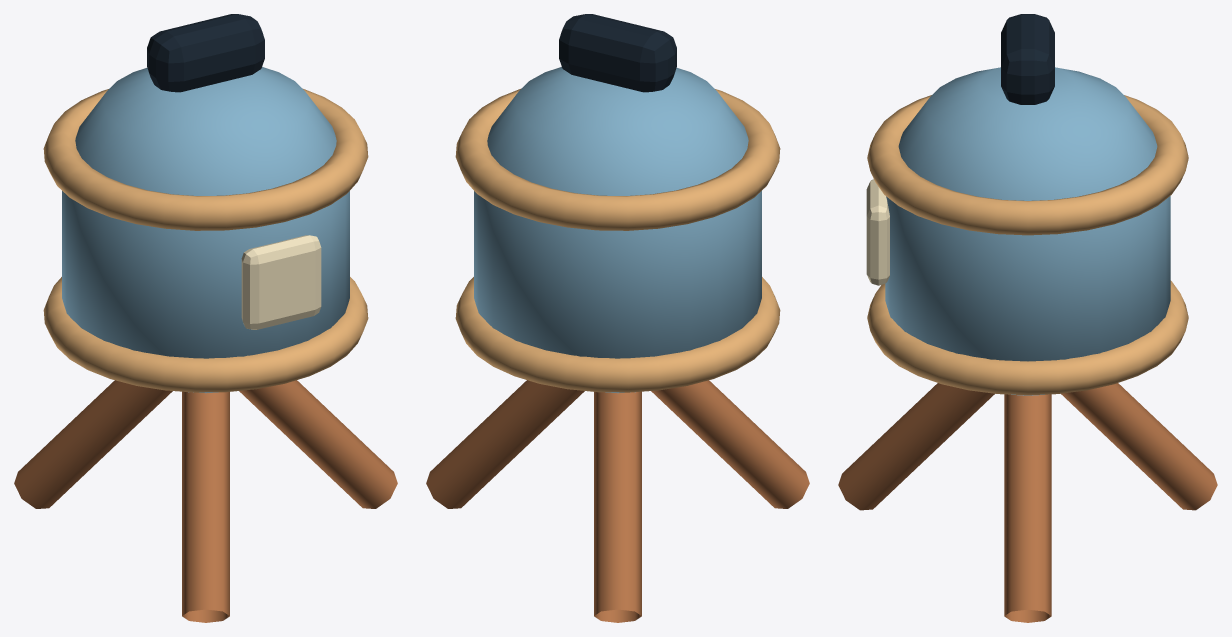
The picture shows the model from 3 angles, left to right: view 1: azimuth 30°, elevation 25°; view 2: azimuth 150°, elevation 25°; view 3: azimuth 270°, elevation 25°; orthographic projection.
Visible parts, largest first — view 1: PR009_vessel, PR009_ring.001, PR009_ring, PR009_cradle_leg.002, PR009_cradle_leg, PR009_cradle_leg.001, PR009_handle, PR009_seal; view 2: PR009_vessel, PR009_ring.001, PR009_ring, PR009_cradle_leg.001, PR009_cradle_leg, PR009_cradle_leg.002, PR009_handle; view 3: PR009_vessel, PR009_ring.001, PR009_ring, PR009_cradle_leg, PR009_cradle_leg.001, PR009_cradle_leg.002, PR009_handle, PR009_seal.
Boxes of the visible parts, bbox=[...] form: PR009_vessel: bbox=[62, 67, 349, 393]; PR009_ring.001: bbox=[43, 88, 368, 230]; PR009_ring: bbox=[43, 277, 368, 392]; PR009_cradle_leg.002: bbox=[182, 391, 229, 622]; PR009_cradle_leg: bbox=[239, 380, 397, 508]; PR009_cradle_leg.001: bbox=[14, 380, 172, 508]; PR009_handle: bbox=[147, 14, 264, 92]; PR009_seal: bbox=[241, 235, 321, 329]; PR009_vessel: bbox=[474, 67, 761, 393]; PR009_ring.001: bbox=[455, 88, 780, 230]; PR009_ring: bbox=[455, 277, 780, 392]; PR009_cradle_leg.001: bbox=[594, 391, 641, 622]; PR009_cradle_leg: bbox=[426, 380, 584, 508]; PR009_cradle_leg.002: bbox=[651, 380, 809, 508]; PR009_handle: bbox=[559, 14, 676, 92]; PR009_vessel: bbox=[885, 67, 1170, 395]; PR009_ring.001: bbox=[867, 95, 1188, 235]; PR009_ring: bbox=[867, 280, 1188, 395]; PR009_cradle_leg: bbox=[1004, 394, 1051, 622]; PR009_cradle_leg.001: bbox=[1061, 383, 1217, 510]; PR009_cradle_leg.002: bbox=[838, 383, 994, 510]; PR009_handle: bbox=[1001, 14, 1054, 104]; PR009_seal: bbox=[866, 179, 889, 285].
Bounding box in the file's own units: 0.5533 × 0.8381 × 0.5592.
